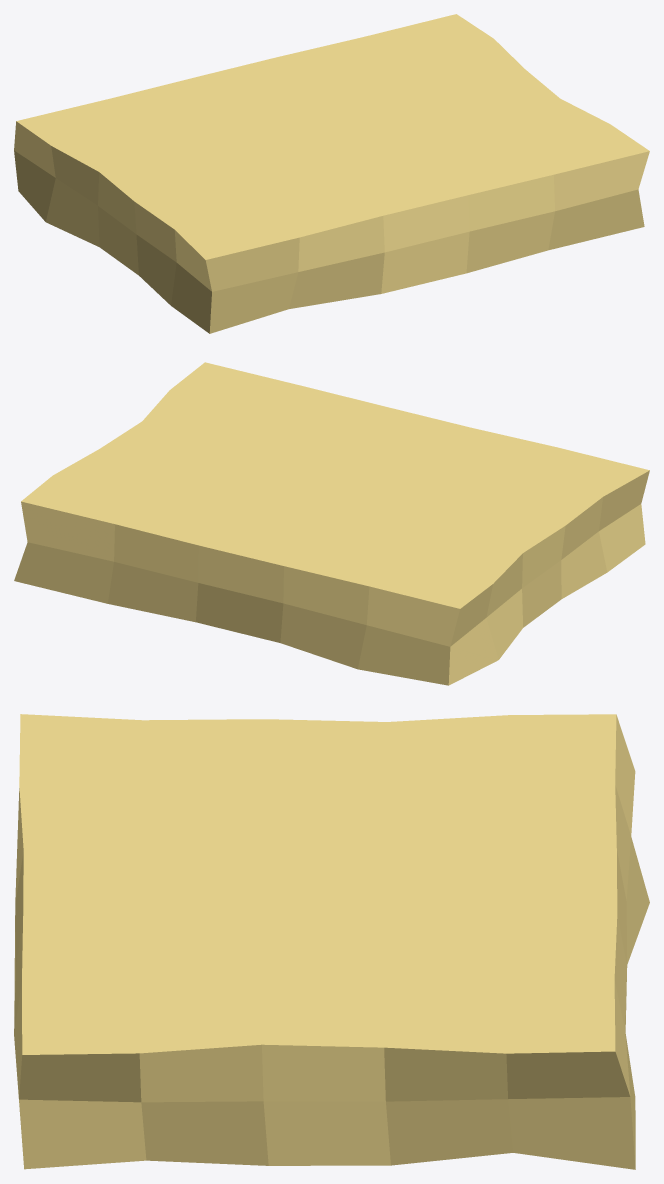
File: Lava_Platform_Top.FBX
3 views of the same model, one above another, from view 1: azimuth 30°, elevation 25°; view 2: azimuth 150°, elevation 25°; view 3: azimuth 270°, elevation 25° (orthographic). The views are drawn at different scales.
Parts seen in each view (by area): view 1: Rock_Platforn2; view 2: Rock_Platforn2; view 3: Rock_Platforn2.
Part boxes in pixels (bbox=[...]): Rock_Platforn2: bbox=[14, 14, 649, 333]; Rock_Platforn2: bbox=[14, 362, 649, 685]; Rock_Platforn2: bbox=[14, 714, 649, 1169].
Bounding box in the file's own units: 150 × 23.99 × 117.
